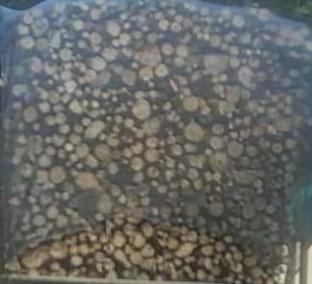medium: (201, 55, 228, 73), (23, 249, 48, 268), (93, 253, 116, 273), (138, 46, 161, 65), (209, 153, 231, 171), (75, 171, 98, 188), (132, 100, 151, 118), (185, 123, 204, 141), (114, 251, 131, 271), (97, 194, 113, 215), (29, 136, 42, 161), (85, 122, 104, 139), (175, 242, 198, 256), (238, 67, 253, 88), (121, 69, 138, 87), (218, 100, 237, 116), (126, 184, 151, 196), (234, 172, 257, 185), (32, 19, 49, 36), (74, 142, 91, 158), (225, 85, 241, 102), (186, 155, 208, 167), (144, 118, 160, 134), (182, 96, 199, 111), (273, 118, 292, 131), (90, 56, 106, 71), (226, 142, 243, 156), (206, 259, 220, 276), (50, 167, 65, 182), (106, 21, 120, 36), (140, 66, 154, 81), (12, 84, 28, 97), (6, 255, 18, 272), (254, 35, 271, 47), (112, 233, 126, 247), (30, 58, 43, 73), (101, 48, 117, 60), (47, 135, 64, 146), (35, 170, 48, 184), (47, 205, 60, 219), (232, 15, 246, 28), (243, 205, 256, 219), (96, 144, 108, 159), (69, 100, 82, 113), (37, 155, 50, 168), (131, 158, 144, 171), (211, 203, 224, 216), (45, 61, 57, 75), (86, 155, 98, 169), (134, 236, 146, 250), (175, 45, 189, 57), (51, 32, 62, 47), (142, 221, 153, 236), (210, 137, 225, 148), (276, 247, 292, 257), (66, 79, 78, 92), (155, 65, 168, 77), (25, 108, 37, 121), (142, 246, 154, 259), (209, 36, 221, 49), (255, 198, 268, 210), (145, 150, 159, 161), (110, 183, 121, 197), (128, 213, 142, 224), (80, 245, 94, 256), (59, 50, 72, 61), (169, 144, 182, 155), (161, 206, 172, 219), (212, 123, 225, 134), (108, 161, 118, 175), (246, 57, 260, 67), (22, 36, 34, 47), (119, 33, 130, 45), (84, 69, 96, 80), (48, 92, 60, 103), (55, 216, 67, 227), (168, 238, 179, 250), (123, 225, 135, 236), (192, 71, 204, 82), (247, 100, 259, 111), (143, 259, 155, 270), (133, 143, 143, 156), (166, 156, 176, 169), (184, 144, 197, 154), (70, 257, 83, 267), (174, 75, 187, 85), (179, 34, 192, 44), (239, 33, 252, 43), (255, 72, 268, 82), (34, 40, 48, 49), (176, 163, 185, 177), (90, 33, 101, 44), (147, 33, 158, 44), (40, 194, 51, 205), (148, 167, 159, 178), (247, 145, 258, 156), (186, 205, 197, 216), (38, 103, 50, 113), (186, 168, 198, 178), (199, 106, 211, 116), (251, 267, 263, 277), (68, 135, 81, 144), (19, 24, 29, 35), (146, 138, 157, 148), (133, 173, 144, 183), (99, 234, 110, 244), (254, 126, 265, 136), (287, 138, 297, 149), (61, 71, 73, 80), (46, 115, 58, 124), (73, 20, 83, 30), (38, 90, 48, 100), (59, 124, 69, 134), (194, 181, 204, 191), (163, 43, 172, 54), (139, 209, 150, 218), (104, 244, 115, 253), (49, 262, 60, 271), (171, 22, 180, 33), (267, 107, 278, 116), (285, 162, 296, 171), (284, 175, 295, 184), (53, 105, 65, 113), (157, 186, 169, 194), (123, 47, 132, 57), (158, 21, 168, 30), (56, 114, 66, 123), (112, 150, 121, 160), (34, 217, 44, 226), (119, 195, 128, 205), (165, 171, 175, 180), (88, 233, 98, 242), (241, 89, 250, 99), (267, 126, 277, 135), (245, 257, 255, 266), (25, 12, 33, 23), (58, 148, 66, 159), (202, 246, 213, 254), (108, 139, 120, 146), (125, 119, 134, 128), (181, 180, 190, 189), (141, 198, 150, 207), (175, 58, 184, 67), (260, 138, 269, 147), (196, 272, 205, 281), (125, 147, 132, 158), (90, 100, 99, 108), (163, 103, 172, 111), (183, 88, 192, 96), (242, 130, 251, 138), (273, 144, 282, 152), (196, 217, 205, 225), (198, 236, 207, 244), (281, 153, 289, 162), (291, 150, 298, 160), (169, 182, 180, 188), (62, 95, 70, 103), (75, 124, 83, 132), (217, 242, 224, 251), (151, 90, 158, 98), (137, 130, 144, 138), (115, 115, 123, 122), (231, 47, 239, 54), (272, 75, 279, 83), (84, 118, 91, 125), (71, 154, 78, 161), (66, 144, 74, 150)
small: (269, 232, 279, 243), (269, 221, 281, 230), (77, 39, 87, 49), (214, 84, 224, 94), (251, 159, 261, 169), (266, 205, 277, 214), (46, 146, 55, 156), (182, 18, 192, 27), (31, 205, 42, 213), (91, 9, 100, 18), (284, 107, 293, 116), (111, 125, 121, 133), (239, 231, 250, 238), (151, 207, 159, 216), (168, 191, 177, 199), (189, 233, 198, 241), (94, 214, 103, 222), (170, 80, 176, 92), (174, 14, 183, 22), (227, 201, 235, 210), (250, 221, 259, 229), (255, 181, 265, 188), (133, 32, 141, 40), (78, 77, 86, 85), (97, 171, 105, 179), (235, 253, 243, 261), (228, 216, 236, 224), (101, 92, 110, 99), (93, 89, 100, 98), (149, 180, 158, 187), (115, 218, 124, 225), (206, 172, 213, 181), (11, 102, 21, 108), (89, 111, 99, 117), (124, 23, 132, 30), (113, 39, 121, 46), (135, 41, 143, 48), (33, 122, 40, 130), (168, 136, 175, 144), (29, 196, 36, 204), (174, 207, 182, 214), (182, 235, 190, 242), (181, 226, 188, 234), (221, 74, 228, 82), (193, 25, 200, 33), (214, 174, 222, 181), (235, 265, 242, 273), (174, 259, 182, 266), (185, 258, 196, 263), (136, 92, 145, 98), (220, 45, 229, 51), (261, 51, 270, 57), (230, 132, 239, 138), (260, 261, 270, 266), (99, 133, 106, 140), (273, 95, 280, 102), (224, 236, 231, 243), (276, 169, 283, 176), (132, 61, 138, 69), (63, 192, 69, 200), (228, 33, 236, 39), (257, 107, 265, 113), (277, 104, 285, 110), (264, 216, 270, 224), (264, 60, 273, 65), (260, 99, 269, 104), (52, 54, 59, 60), (81, 5, 88, 11), (57, 86, 64, 92), (32, 80, 39, 86), (54, 193, 60, 200), (255, 49, 261, 56), (225, 253, 231, 260), (231, 247, 238, 253), (215, 187, 222, 193), (266, 269, 273, 275), (120, 14, 126, 20), (143, 26, 149, 32), (148, 82, 154, 88), (127, 100, 133, 106), (76, 164, 82, 170), (66, 161, 72, 167), (212, 77, 218, 83), (226, 36, 232, 42), (206, 149, 212, 155), (156, 257, 162, 263), (245, 250, 251, 256), (258, 189, 264, 195), (276, 184, 282, 190), (271, 157, 277, 163), (207, 197, 213, 203), (81, 32, 88, 37), (75, 91, 82, 96), (121, 104, 126, 111), (273, 192, 278, 199), (234, 196, 241, 201), (287, 97, 291, 105), (112, 97, 117, 103), (115, 108, 121, 113), (153, 105, 158, 111), (100, 110, 106, 115), (179, 202, 185, 207), (197, 34, 202, 40), (246, 49, 251, 55), (269, 166, 275, 171), (67, 43, 74, 47), (55, 74, 59, 81), (110, 133, 117, 137), (161, 140, 165, 147), (83, 101, 88, 106), (161, 149, 166, 154), (180, 95, 185, 100), (268, 153, 273, 158), (49, 80, 53, 86), (85, 88, 91, 92), (159, 266, 163, 272), (205, 36, 210, 40), (209, 239, 214, 243), (260, 157, 265, 161), (107, 117, 111, 121)
